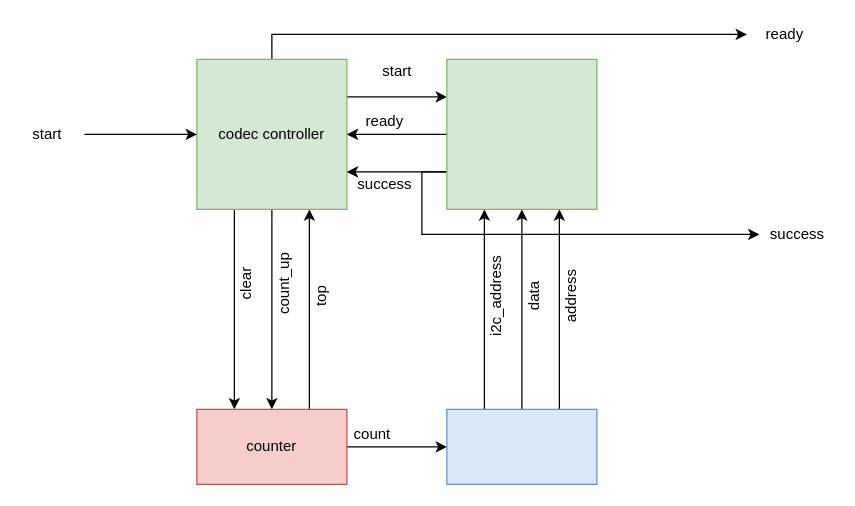
Some shapes in this 855 by 506 pixel diagram are drawn without their labels. The shapes that lost their labels are listed below. From the top down, each one's box as (x1, y1, x2, y2) in pixels, then its label:
(446, 58, 597, 209): I2C
(446, 408, 597, 484): ROM content
